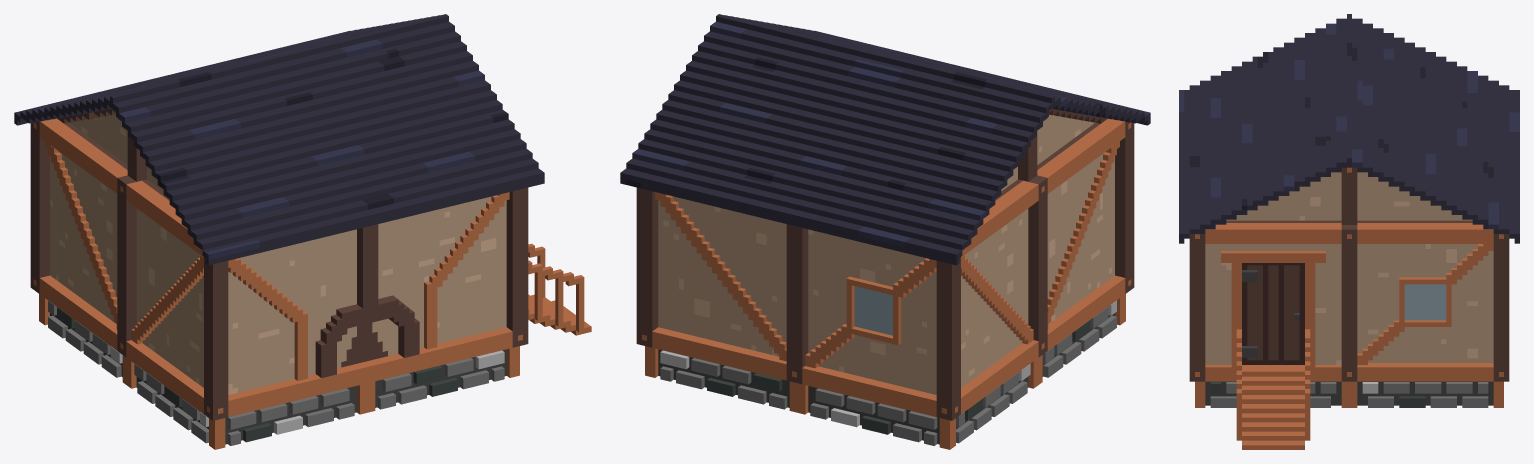
Rendered from Second House-1-MIllHouse.obj.
3 renders of one model, left to right at view 1: azimuth 30°, elevation 25°; view 2: azimuth 150°, elevation 25°; view 3: azimuth 270°, elevation 25°, orthographic. The views are drawn at different scales.
Visible parts, largest first — view 1: MIllHouse; view 2: MIllHouse; view 3: MIllHouse.
Part boxes in pixels (left/top/right/bottom): MIllHouse: left=14, top=14, right=591, bottom=449; MIllHouse: left=620, top=14, right=1150, bottom=449; MIllHouse: left=1179, top=14, right=1519, bottom=449.
Bounding box in the file's own units: 8.1 × 5.4 × 6.5.
Materials: 1 (1 with a texture image).
